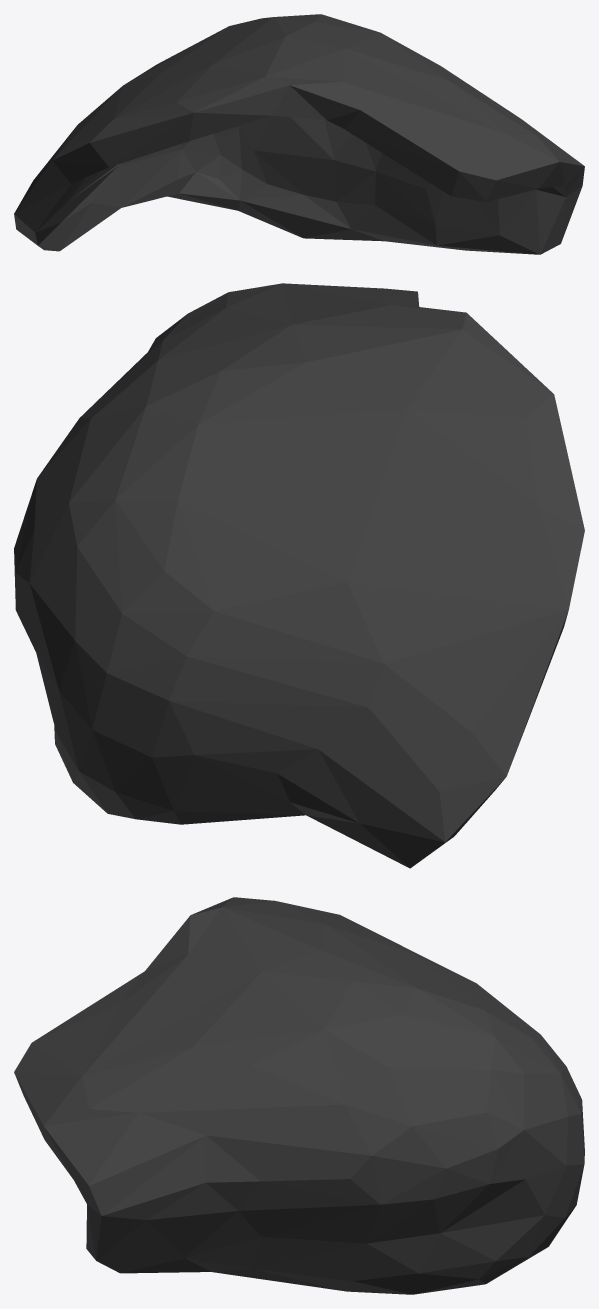
The model's file is Tibia_medial_malleolus.glb.
3 views of the same model, one above another, from view 1: azimuth 30°, elevation 25°; view 2: azimuth 150°, elevation 25°; view 3: azimuth 270°, elevation 25° (orthographic). The views are drawn at different scales.
Parts seen in each view (by area): view 1: Tibia_medial_malleolus; view 2: Tibia_medial_malleolus; view 3: Tibia_medial_malleolus.
Boxes of the visible parts, bbox=[...] form: Tibia_medial_malleolus: bbox=[14, 14, 584, 254]; Tibia_medial_malleolus: bbox=[14, 283, 584, 868]; Tibia_medial_malleolus: bbox=[14, 897, 584, 1294].
Size of the model in its own units: 0.0152 by 0.0094 by 0.0159.
1 material, 1 textured.
